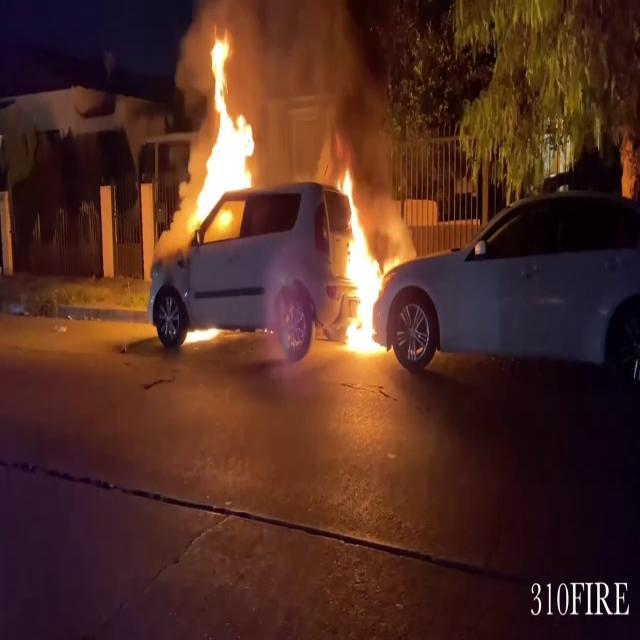Fire: (176, 28, 264, 234), (332, 160, 389, 358)
Smoke: (240, 1, 397, 168)
